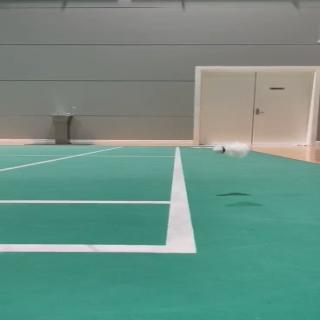Shuttle: (212, 142, 250, 158)
